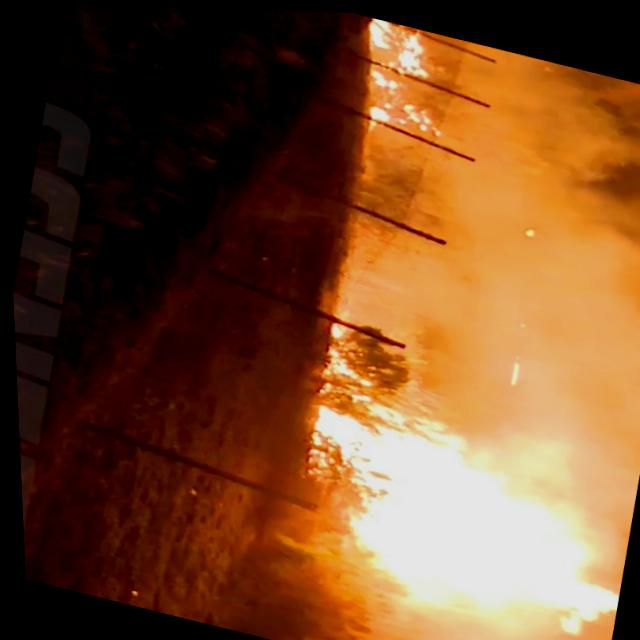fire: (274, 376, 640, 640)
